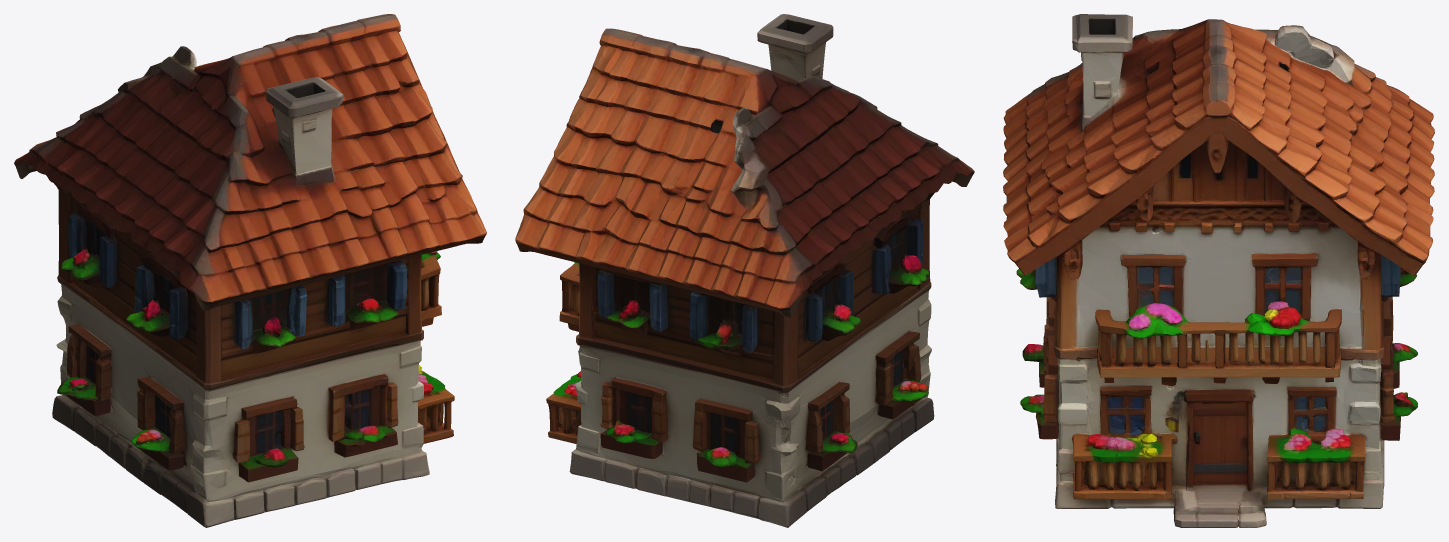
File: austrian-alpine-house.glb
The picture shows the model from 3 angles, left to right: view 1: azimuth 30°, elevation 25°; view 2: azimuth 150°, elevation 25°; view 3: azimuth 270°, elevation 25°; orthographic projection. The views are drawn at different scales.
Parts seen in each view (by area): view 1: geometry_0; view 2: geometry_0; view 3: geometry_0.
Boxes of the visible parts, left/top/right/bottom form: geometry_0: left=14, top=14, right=486, bottom=527; geometry_0: left=515, top=14, right=974, bottom=527; geometry_0: left=1003, top=14, right=1434, bottom=527.
Bounding box in the file's own units: 0.8018 × 0.997 × 0.904.
Materials: 1 (1 with a texture image).
